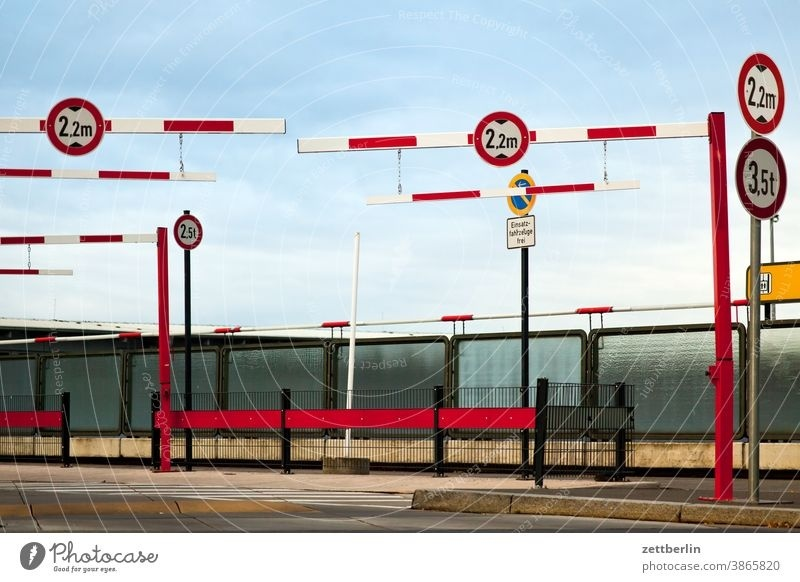Bien khac: (472, 108, 529, 166)
